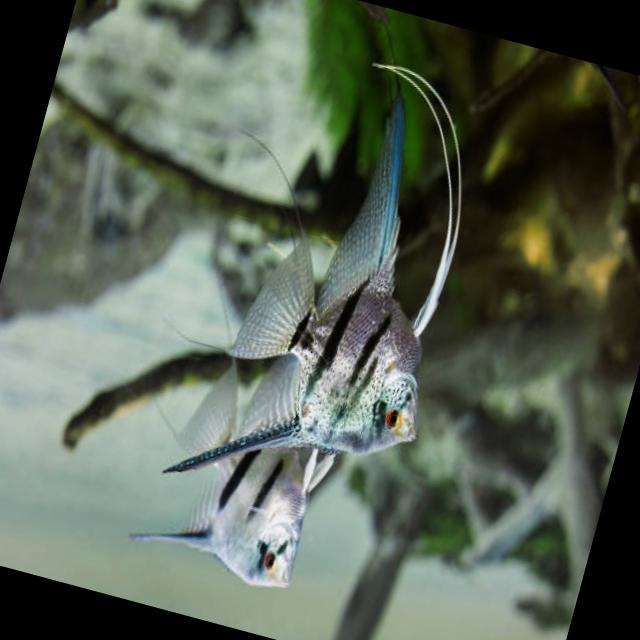AngelFish: (148, 29, 509, 538), (120, 412, 330, 597)
